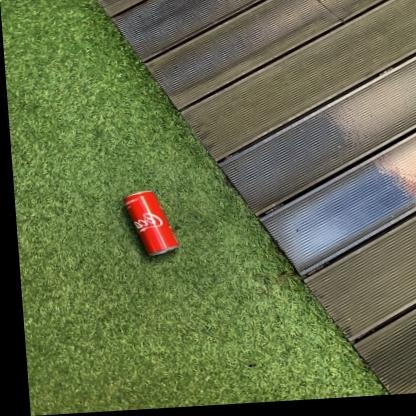trash: (124, 191, 178, 254)
